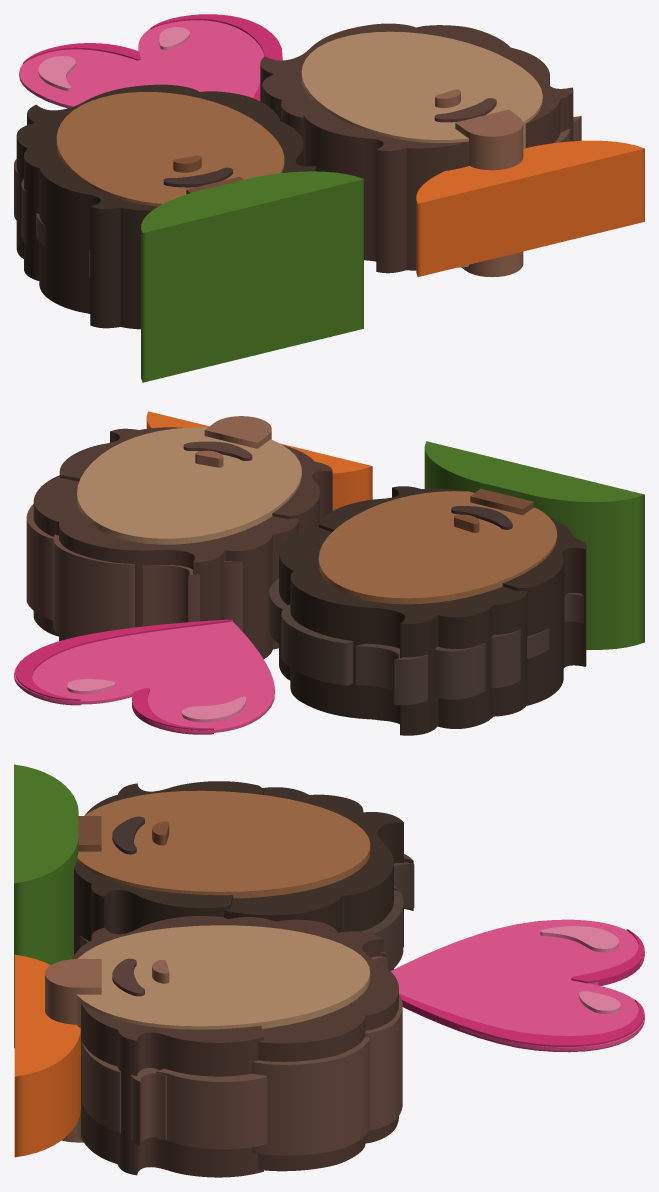
The model's file is emoji_u1f9d1_1f3fe_200d_2764_200d_1f9d1_1f3fd.glb.
3 renders of one model, top to bottom at view 1: azimuth 30°, elevation 25°; view 2: azimuth 150°, elevation 25°; view 3: azimuth 270°, elevation 25°, orthographic. The views are drawn at different scales.
Visible parts, largest first — view 1: emoji_u1f9d1_1f3fe_200d_2764_200d_1f9d1_1f3fd; view 2: emoji_u1f9d1_1f3fe_200d_2764_200d_1f9d1_1f3fd; view 3: emoji_u1f9d1_1f3fe_200d_2764_200d_1f9d1_1f3fd.
Boxes of the visible parts, x1,y1,x2,y2 form: emoji_u1f9d1_1f3fe_200d_2764_200d_1f9d1_1f3fd: [14, 14, 644, 382]; emoji_u1f9d1_1f3fe_200d_2764_200d_1f9d1_1f3fd: [14, 411, 644, 735]; emoji_u1f9d1_1f3fe_200d_2764_200d_1f9d1_1f3fd: [14, 764, 644, 1177].
Bounding box in the file's own units: 0.0345 × 0.0098 × 0.034.
